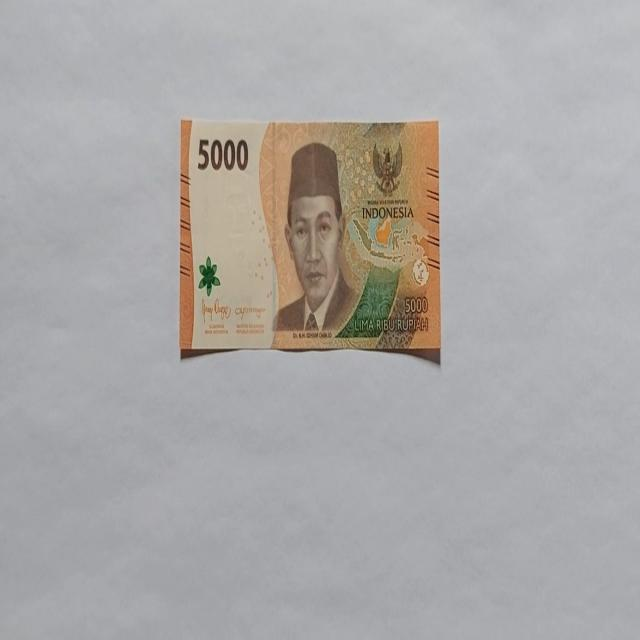lima ribu rupiah: (178, 116, 442, 362), (272, 140, 359, 336)
